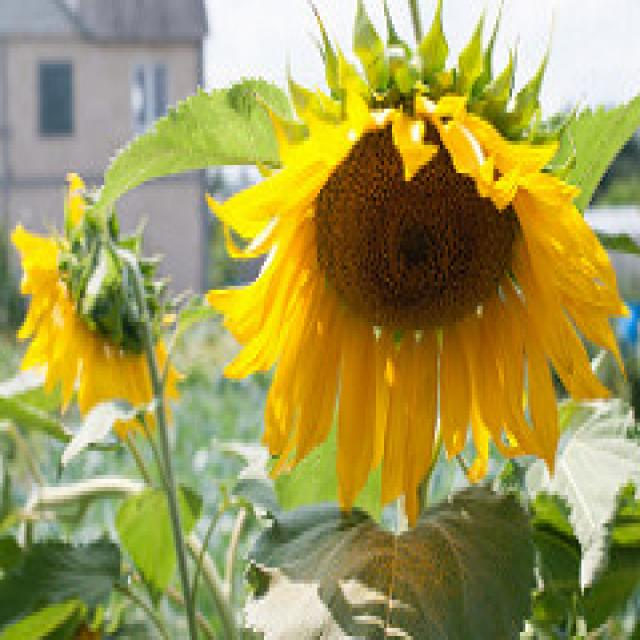sunflower: (205, 72, 632, 532), (11, 165, 181, 411)
